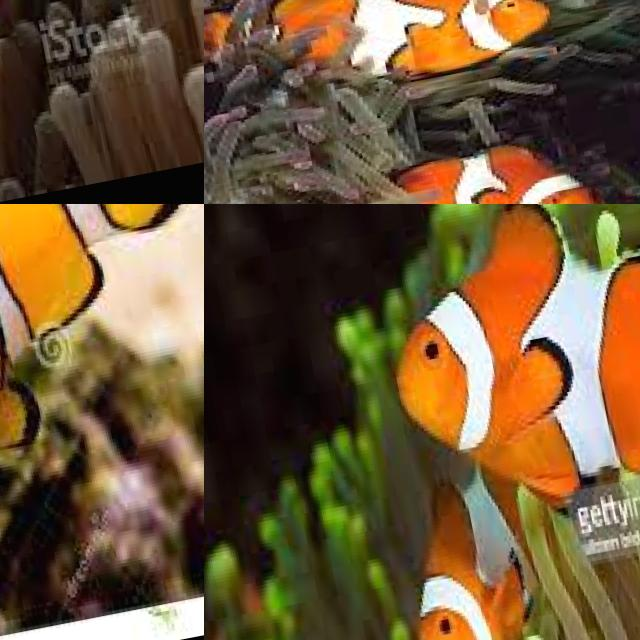Amphiprion-percula: (355, 204, 640, 543), (0, 204, 204, 522), (0, 204, 204, 521), (204, 0, 590, 157), (361, 446, 632, 640), (332, 98, 640, 204), (0, 0, 162, 167), (0, 0, 178, 133)
